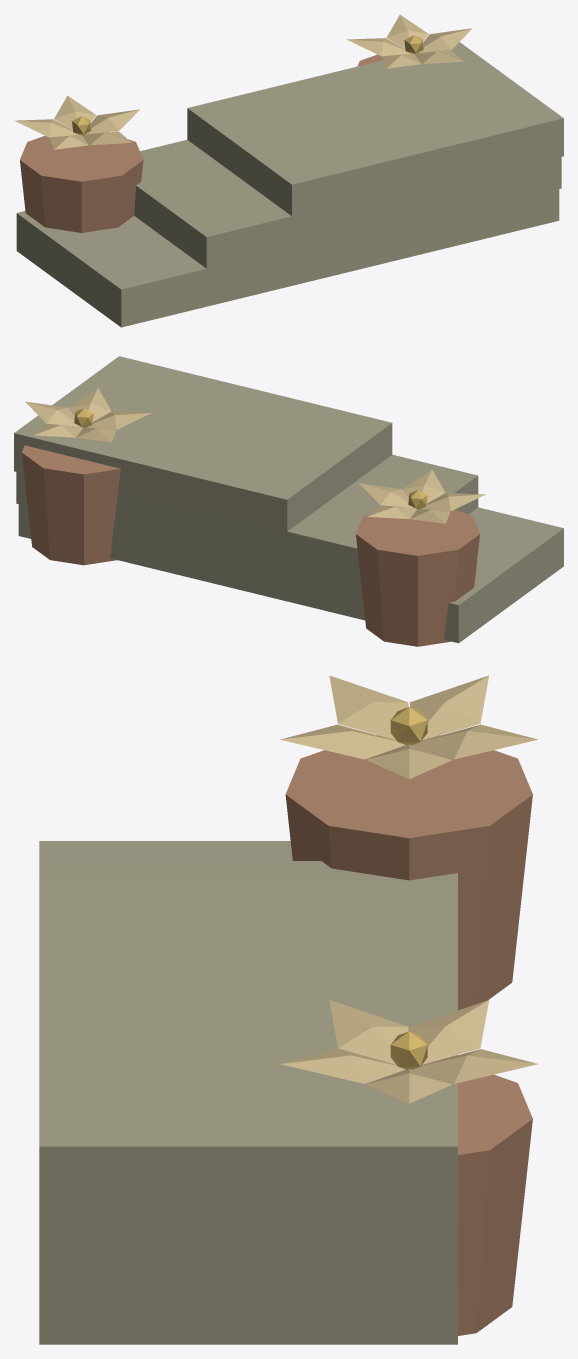
Rendered from map-exclusive-v3__village_14.glb.
The picture shows the model from 3 angles, top to bottom: view 1: azimuth 30°, elevation 25°; view 2: azimuth 150°, elevation 25°; view 3: azimuth 270°, elevation 25°; orthographic projection. The views are drawn at different scales.
Visible parts, largest first — view 1: village_14; view 2: village_14; view 3: village_14.
Boxes of the visible parts, x1,y1,x2,y2 form: village_14: [14, 14, 563, 327]; village_14: [14, 356, 563, 646]; village_14: [39, 675, 537, 1344].
Size of the model in its own units: 2.94 by 0.8474 by 1.43.
